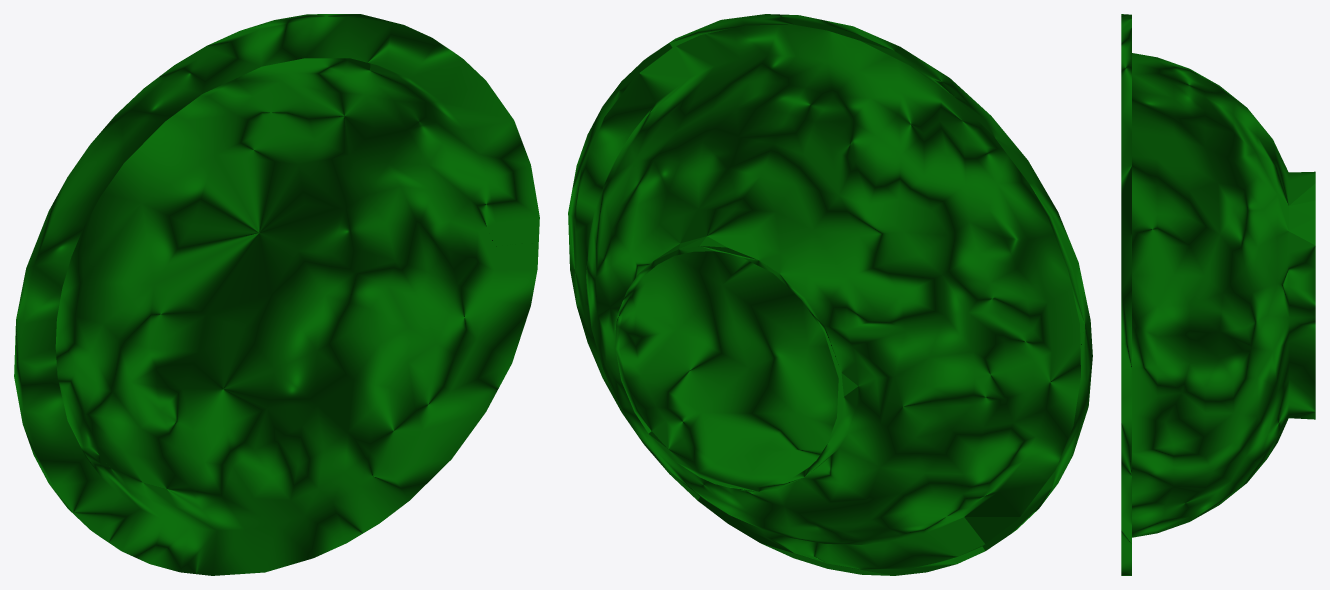
The model's file is model_align.obj.
The picture shows the model from 3 angles, left to right: view 1: azimuth 30°, elevation 25°; view 2: azimuth 150°, elevation 25°; view 3: azimuth 270°, elevation 25°; orthographic projection. The views are drawn at different scales.
Size of the model in its own units: 0.1605 by 0.1605 by 0.0556.
